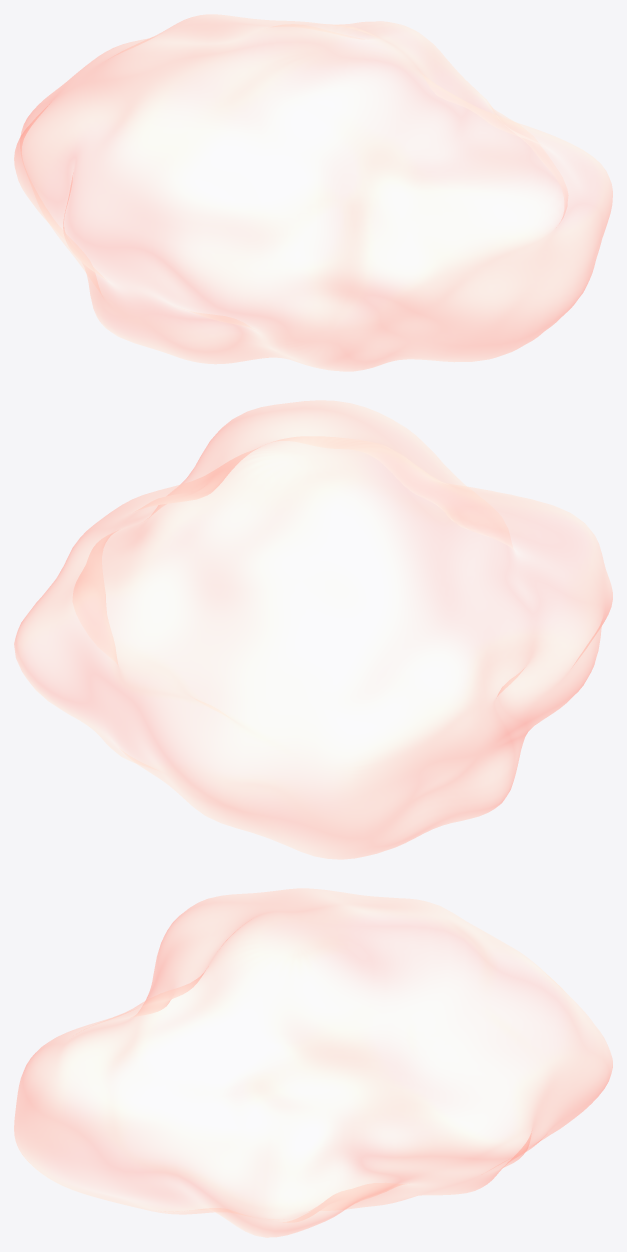
Rendered from stone.glb.
The picture shows the model from 3 angles, top to bottom: view 1: azimuth 30°, elevation 25°; view 2: azimuth 150°, elevation 25°; view 3: azimuth 270°, elevation 25°; orthographic projection. The views are drawn at different scales.
Visible parts, largest first — view 1: rocky body; view 2: rocky body; view 3: rocky body.
Part boxes in pixels (left/top/right/bottom): rocky body: left=14, top=14, right=612, bottom=371; rocky body: left=14, top=400, right=612, bottom=859; rocky body: left=14, top=888, right=612, bottom=1237.
Bounding box in the file's own units: 0.3625 × 0.2139 × 0.4138.
